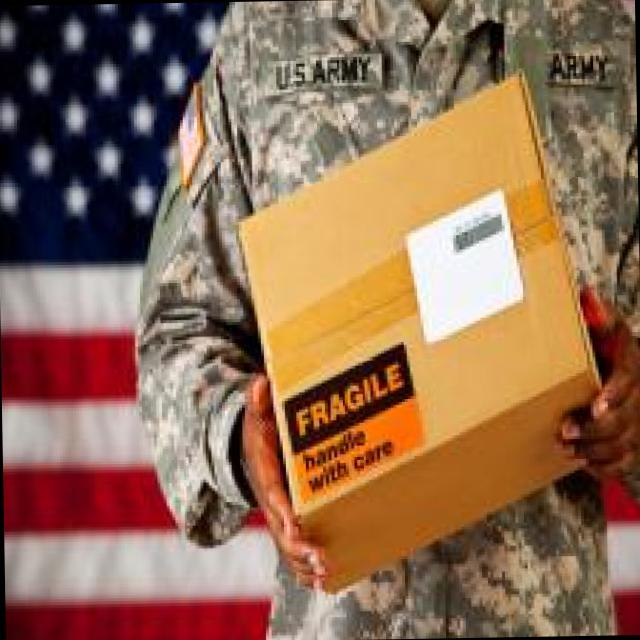box: (236, 68, 604, 595)
